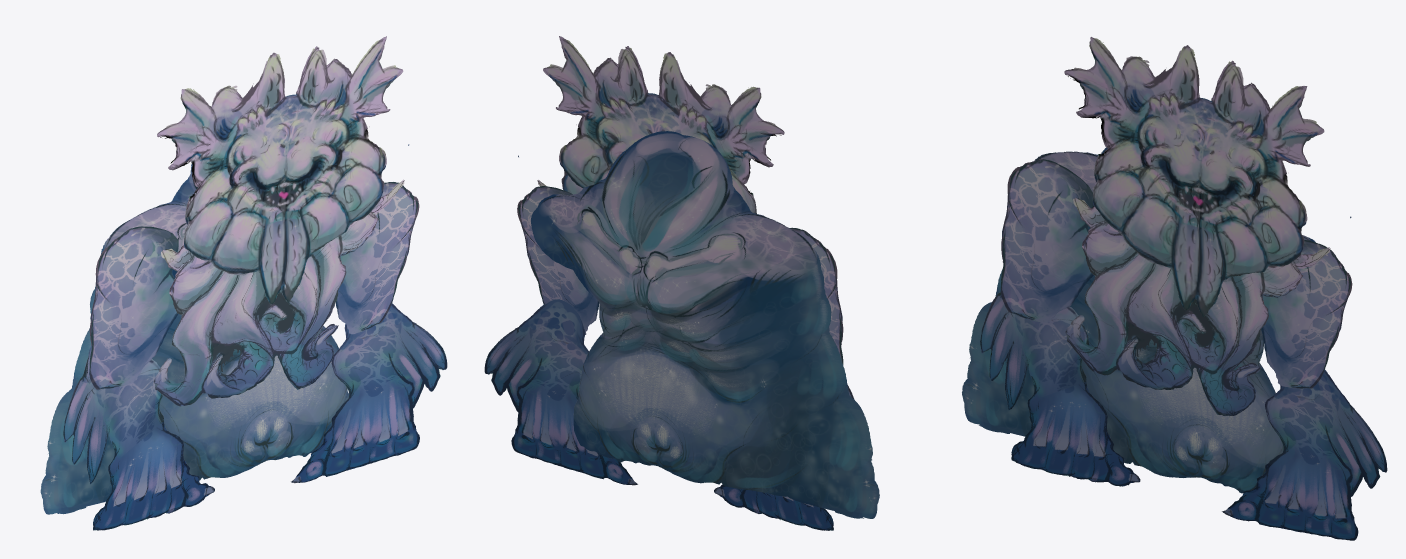
File: cthulu.FBX
The picture shows the model from 3 angles, left to right: view 1: azimuth 30°, elevation 25°; view 2: azimuth 150°, elevation 25°; view 3: azimuth 330°, elevation 25°; orthographic projection. The views are drawn at different scales.
Visible parts, largest first — view 1: cthulu_arm_lower_L (×4), cthulu_head_open, cthulu_torso, cthulu_tentacles; view 2: cthulu_torso, cthulu_arm_lower_L (×4), cthulu_head_close, cthulu_head_open; view 3: cthulu_arm_lower_L (×4), cthulu_head_open, cthulu_tentacles, cthulu_torso.
Part boxes in pixels (bbox=[...]): cthulu_arm_lower_L (×4): bbox=[63, 182, 447, 530]; cthulu_head_open: bbox=[157, 36, 403, 304]; cthulu_torso: bbox=[40, 144, 409, 514]; cthulu_tentacles: bbox=[153, 179, 404, 406]; cthulu_torso: bbox=[518, 131, 879, 518]; cthulu_arm_lower_L (×4): bbox=[484, 186, 854, 530]; cthulu_head_close: bbox=[543, 36, 784, 213]; cthulu_head_open: bbox=[543, 39, 781, 196]; cthulu_arm_lower_L (×4): bbox=[980, 159, 1387, 540]; cthulu_head_open: bbox=[1064, 37, 1324, 316]; cthulu_tentacles: bbox=[1065, 197, 1330, 416]; cthulu_torso: bbox=[962, 147, 1351, 493].
Bounding box in the file's own units: 60.77 × 61.28 × 2.34.
1 material, 1 textured.
